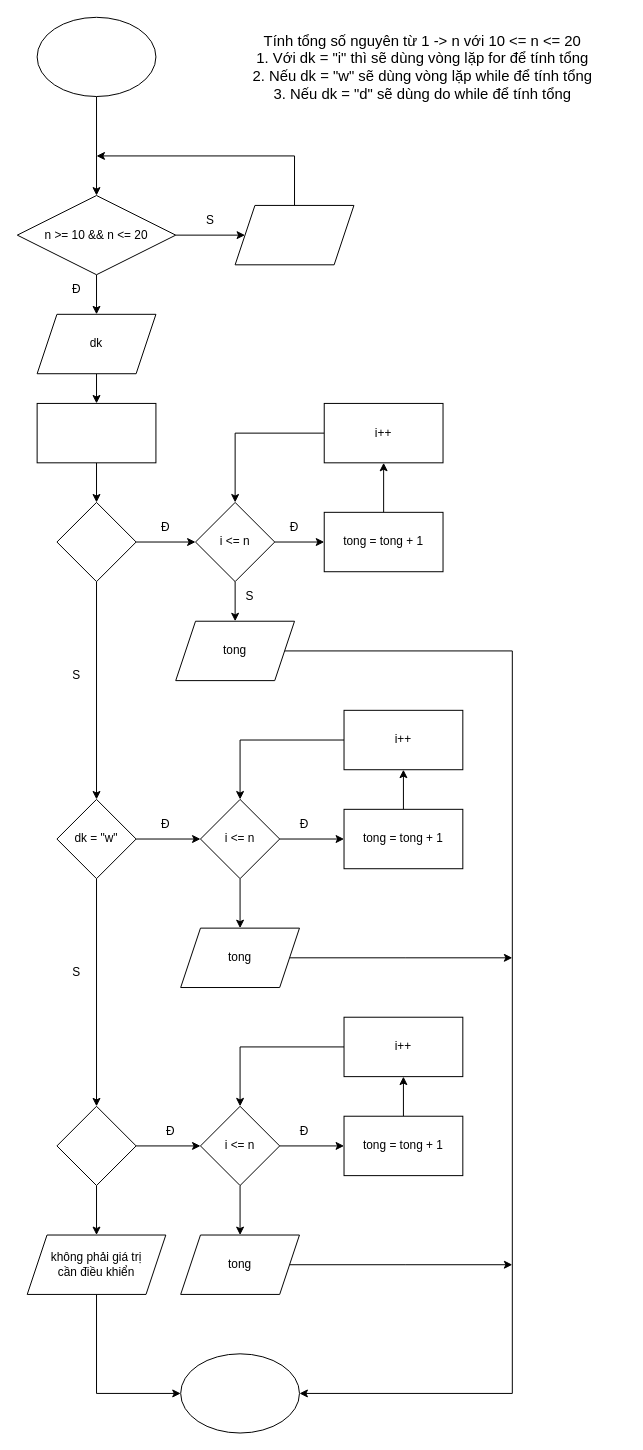
The diagram is 643 pixels wide and 1450 high, and some of its shapes have lost their labels. The box of each missing label's shape, as (x1, y1, x2, y2) in pixels:
BĐ: (36, 16, 156, 97)
dk = "d": (56, 1105, 136, 1186)
dk = "i": (56, 501, 136, 582)
KT: (180, 1353, 299, 1433)
Nhập n: (234, 204, 354, 265)
tong = 0 i = 1: (36, 402, 156, 463)
